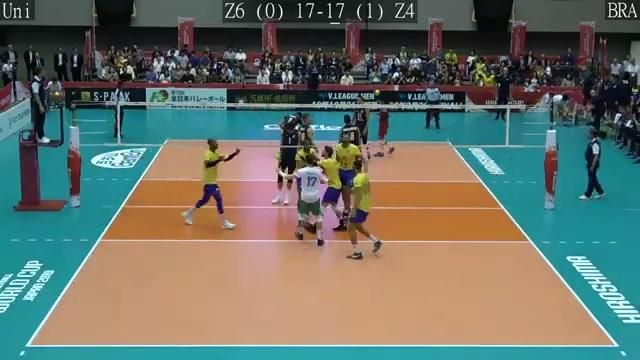ball: (372, 87, 383, 101)
